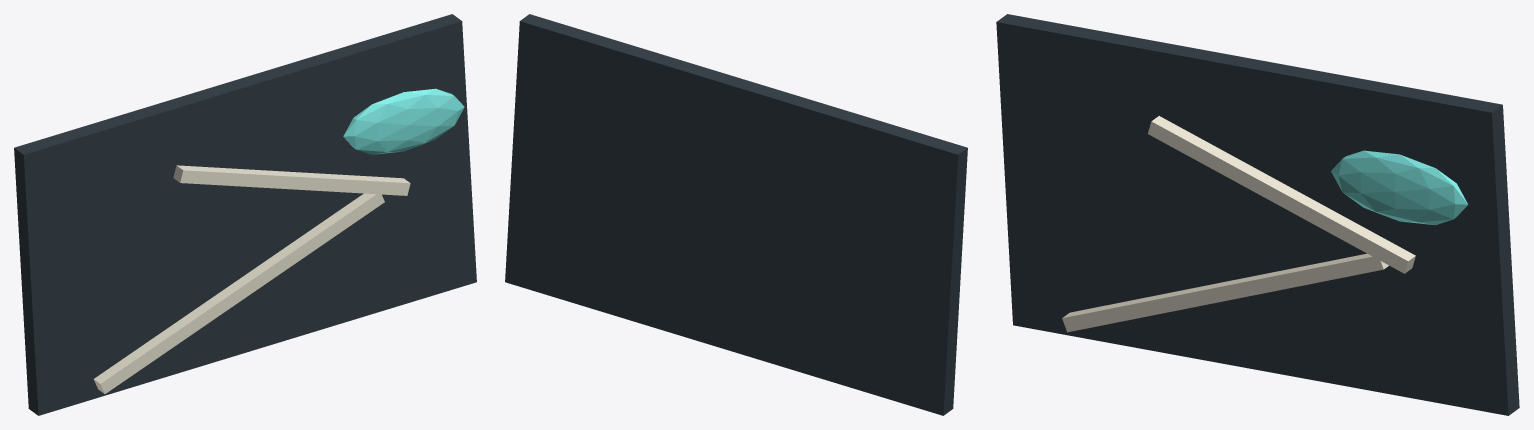
File: 03_weathering_wear_overlay_3.glb
3 renders of one model, left to right at view 1: azimuth 30°, elevation 25°; view 2: azimuth 150°, elevation 25°; view 3: azimuth 330°, elevation 25°, orthographic. The views are drawn at different scales.
Visible parts, largest first — view 1: wear_plate, scratch_a, rust_or_moss_spot, scratch_b; view 2: wear_plate; view 3: wear_plate, rust_or_moss_spot, scratch_b, scratch_a.
Part boxes in pixels (bbox=[...]): wear_plate: bbox=[14, 14, 476, 415]; scratch_a: bbox=[93, 193, 384, 393]; rust_or_moss_spot: bbox=[343, 88, 464, 154]; scratch_b: bbox=[173, 165, 410, 195]; wear_plate: bbox=[505, 14, 967, 415]; wear_plate: bbox=[996, 14, 1519, 415]; rust_or_moss_spot: bbox=[1331, 150, 1468, 225]; scratch_b: bbox=[1148, 116, 1415, 273]; scratch_a: bbox=[1062, 253, 1388, 332].
Size of the model in its own units: 1.34 by 0.8244 by 0.134.
